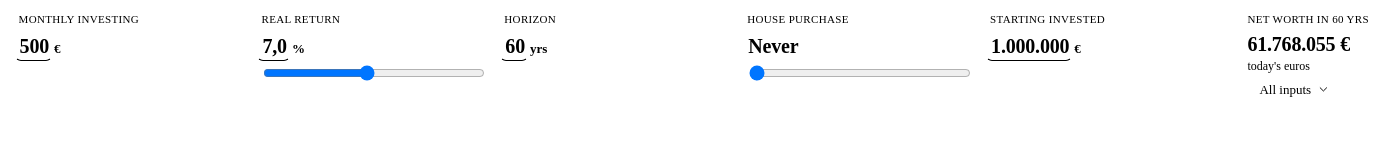
Test case: LeversBar › a typed field › reads the value again once it is committed, so nothing refused or clamped stays in it
Clear the field named "Horizon (years)" at (514, 46), box [500,31,528,61]
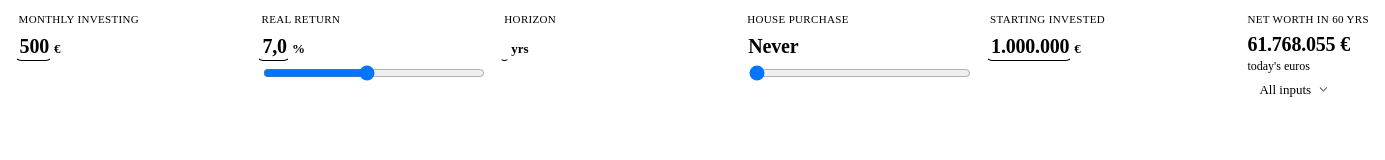
Type "100" into the field named "Horizon (years)" at (505, 46), box [500,31,509,61]
Then press Enter
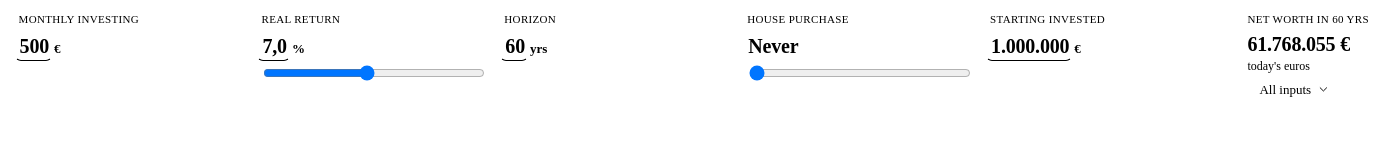
Expected: the field named "Horizon (years)" holds "60", [500,31,528,61]
